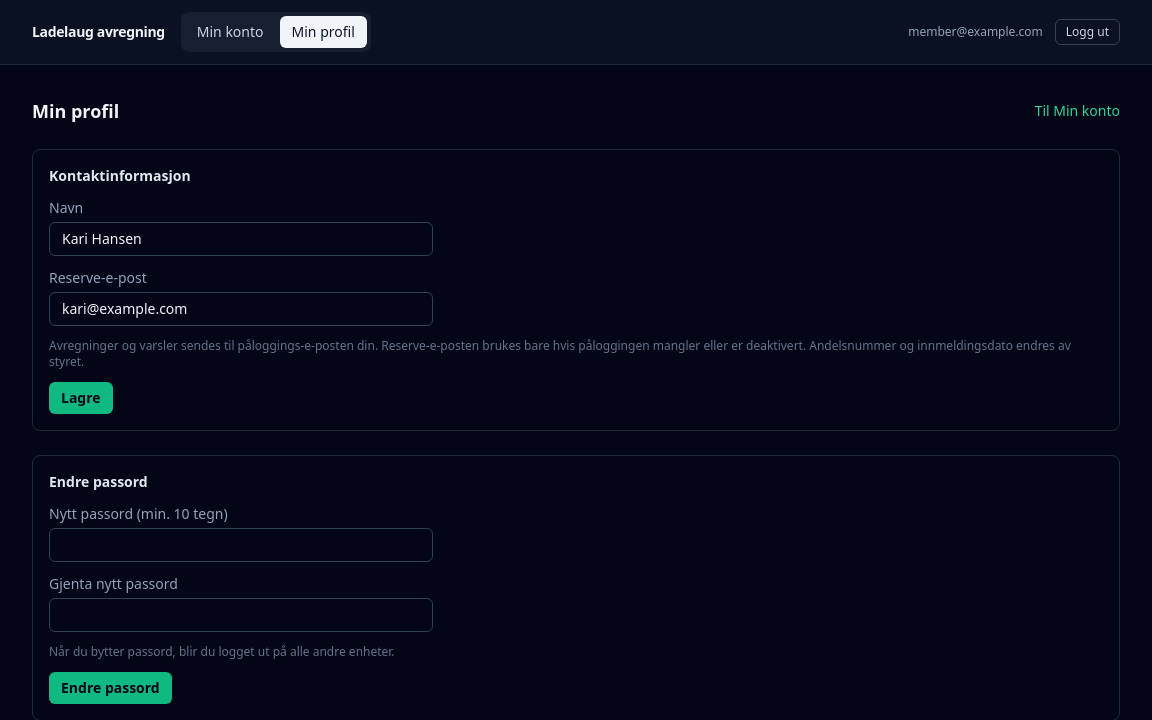
MyProfile (member self-service) › prefills the form and saves name + email changes
expect the field labelled "Reserve-e-post" holds "kari@example.com": met, box 49,292 -> 433,326
Replace the text in the field labelled "Navn" with "Kari Nordmann": (241, 239) 49,222 -> 433,256
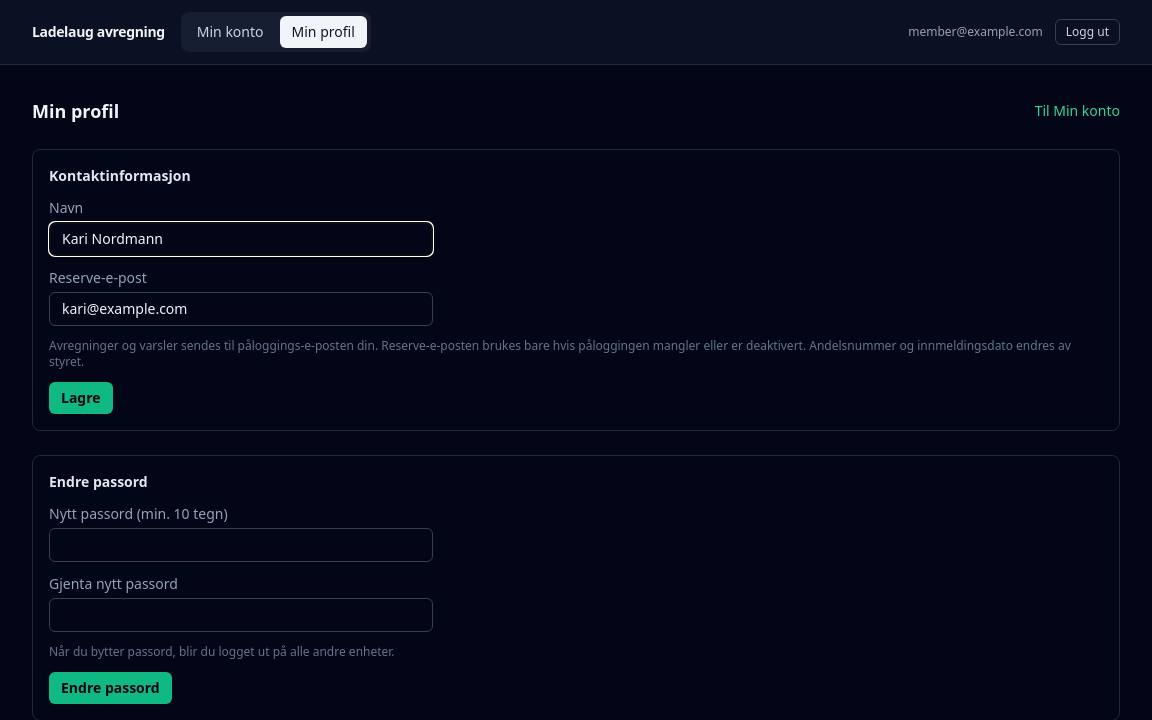
Replace the text in the field labelled "Reserve-e-post" with "kari.n@example.com": (241, 309) 49,292 -> 433,326
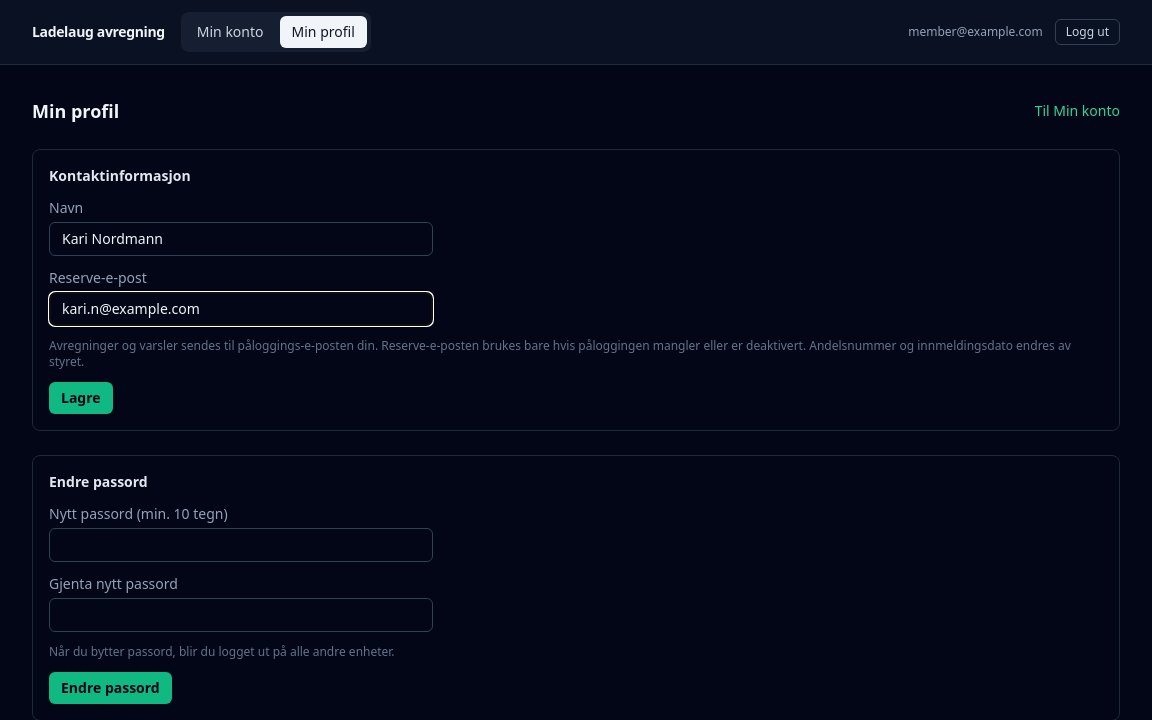
Click the button "Lagre": (81, 398) 49,382 -> 113,414
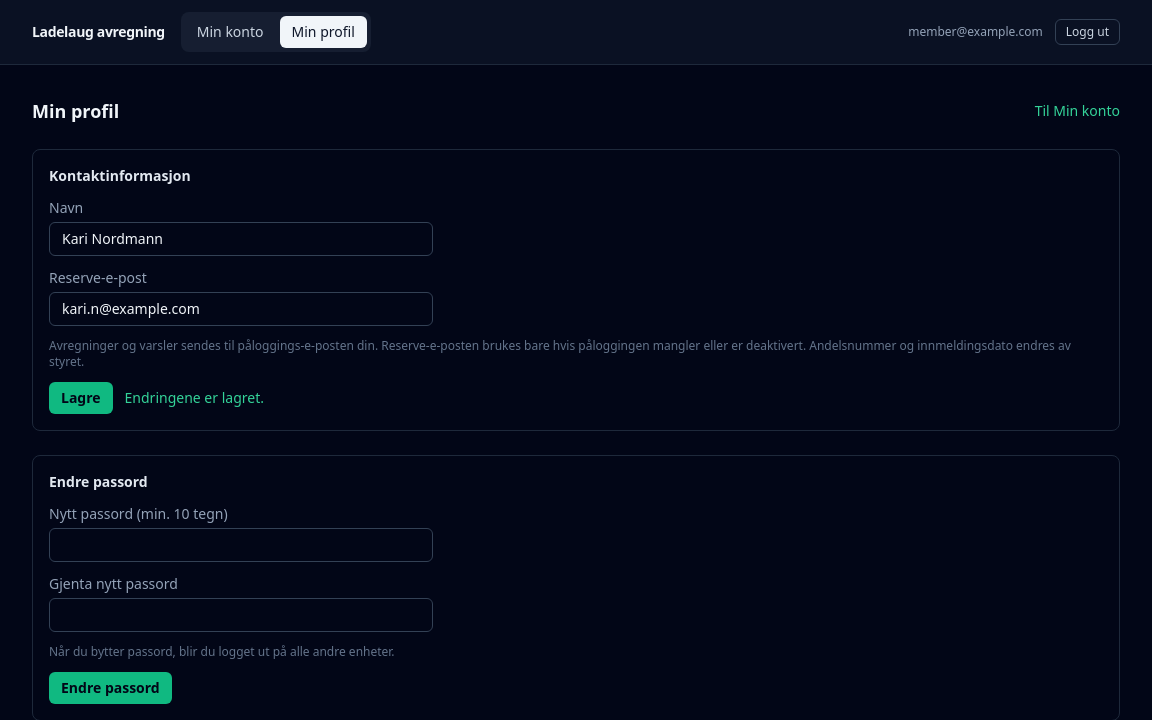
expect the text "Endringene er lagret." is shown: met, box 125,388 -> 264,408
